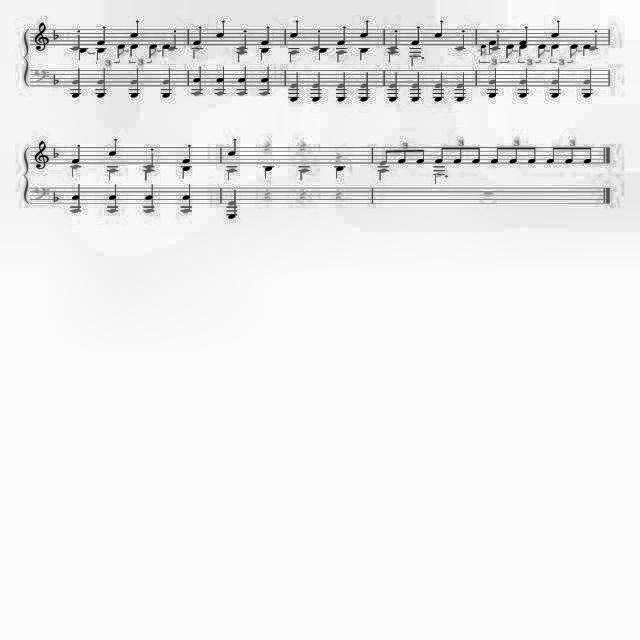Bemol: (51, 70, 57, 88)
Eighth-note: (431, 141, 452, 167), (468, 136, 482, 172), (522, 142, 538, 170), (487, 140, 505, 164), (564, 142, 578, 170), (543, 139, 557, 167), (582, 142, 594, 170), (508, 141, 520, 167), (416, 141, 428, 165), (398, 146, 408, 170), (453, 140, 461, 160)
Quarter-note: (61, 67, 90, 105), (481, 66, 503, 106), (516, 67, 536, 106), (155, 69, 175, 103), (546, 72, 566, 106), (104, 188, 125, 216), (308, 75, 324, 111), (126, 68, 140, 102), (234, 69, 248, 103), (333, 75, 347, 109), (387, 72, 401, 106), (577, 74, 595, 100), (192, 64, 204, 102), (69, 186, 83, 217), (94, 66, 106, 102), (228, 189, 240, 225), (180, 182, 192, 216), (213, 61, 223, 100), (452, 68, 463, 100), (257, 67, 267, 101), (356, 76, 368, 104), (432, 73, 443, 103), (290, 72, 298, 112), (412, 70, 421, 102), (144, 187, 154, 210)
Treble-clef: (28, 134, 48, 178), (32, 20, 52, 60)
